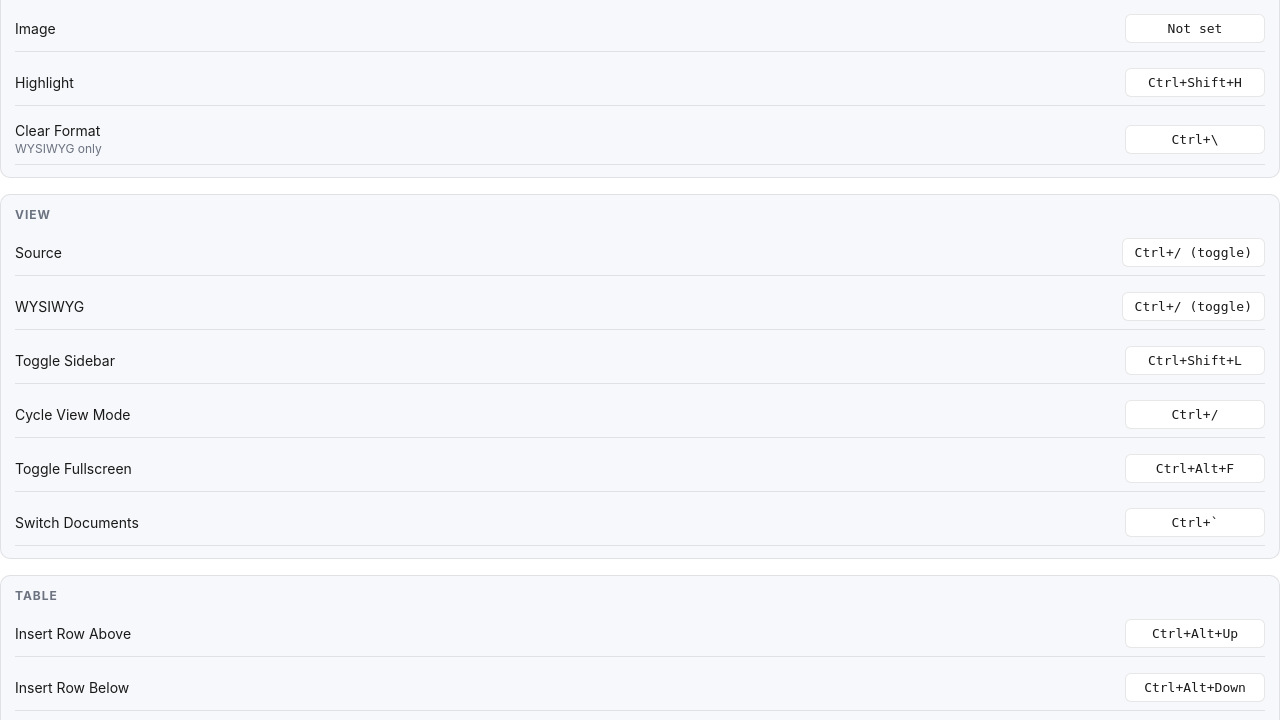
M7 Reset and the recorder › e4 F12 records alone off-Mac too
(page scrolled)
Step 1. Click the button "Ctrl+Shift+L" → [1195, 360], box [1125,346,1265,375]
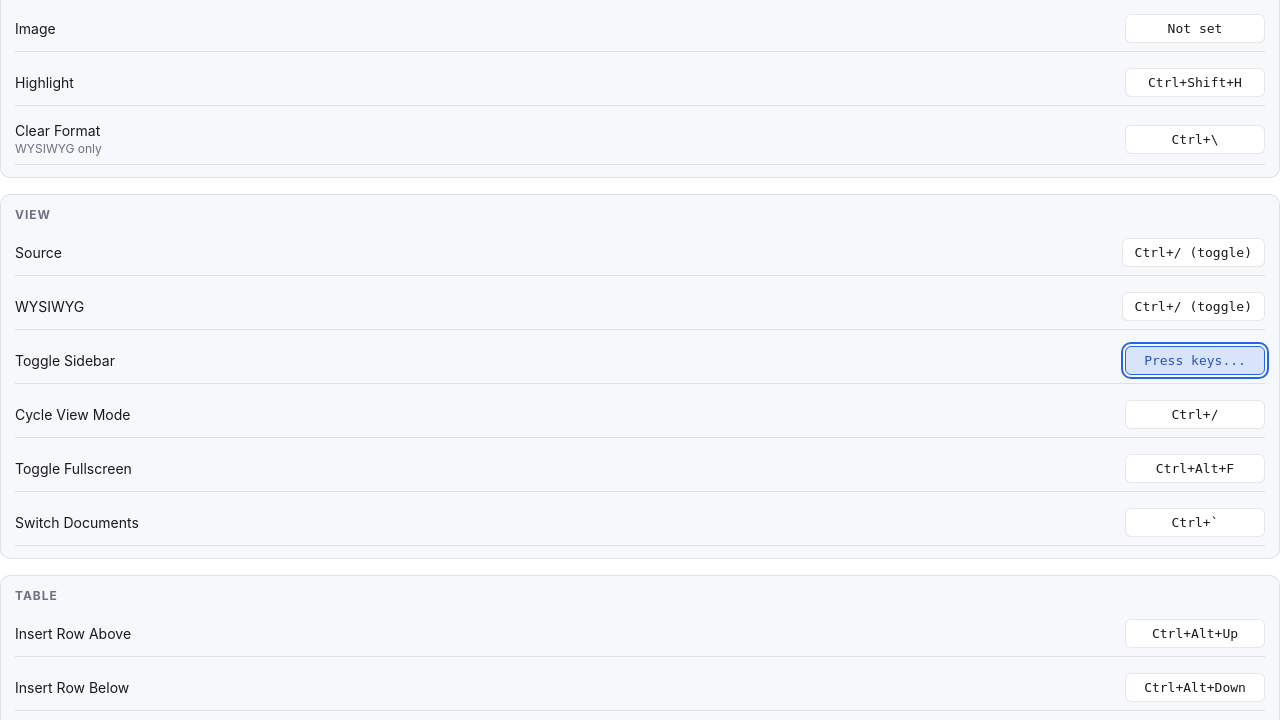
Step 2. Press F12
(page scrolled)
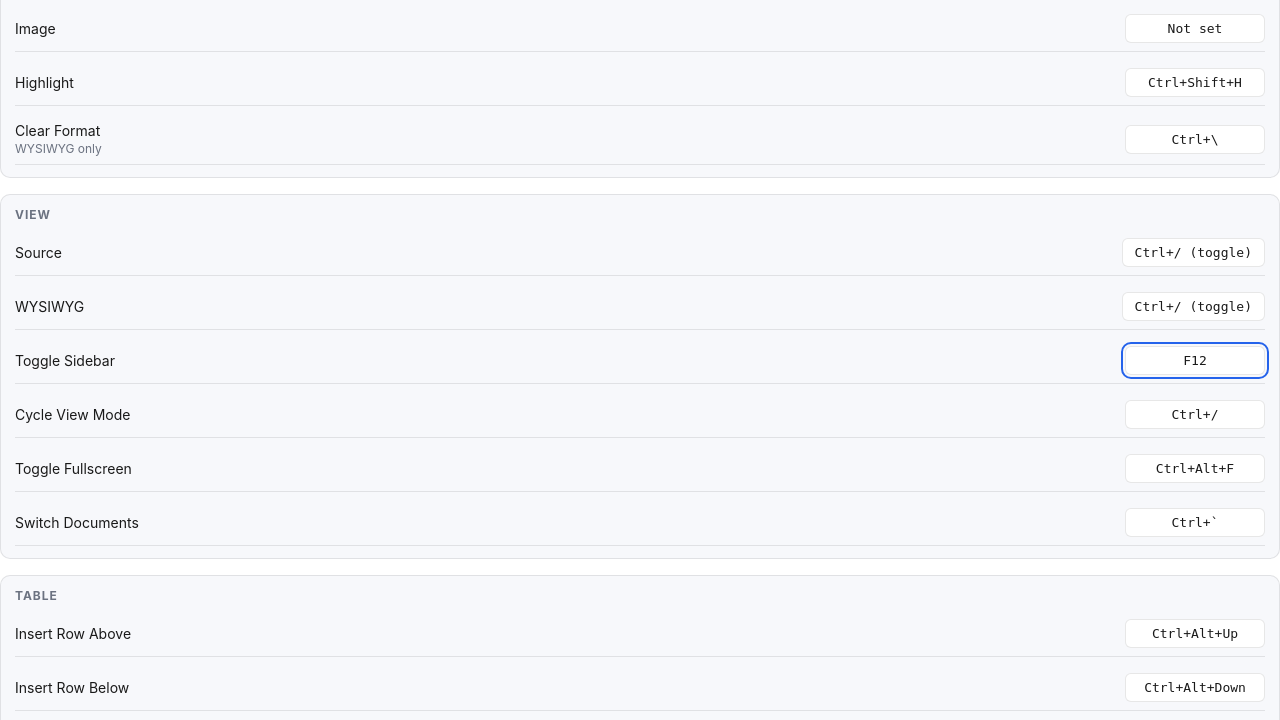
Check: the button "F12" is shown, box [1125,346,1265,375]
